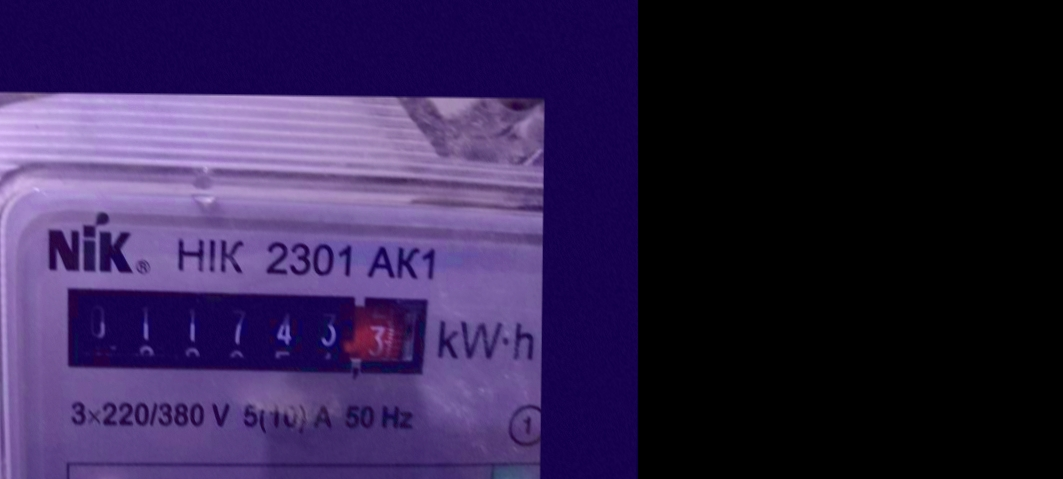0: (86, 301, 109, 340), (136, 301, 155, 342)
1: (183, 302, 200, 343)
3: (318, 307, 339, 350), (366, 320, 387, 359)
4: (273, 306, 294, 346)
7: (226, 303, 250, 347)
screen: (47, 274, 436, 385)
